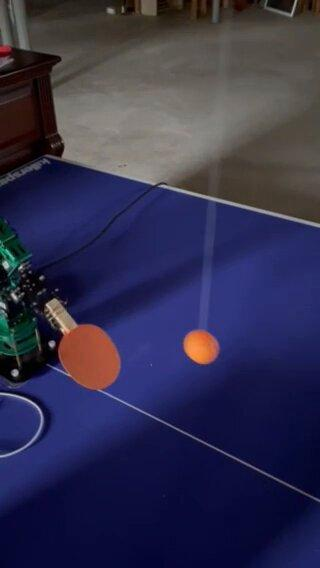oball: (182, 331, 219, 363)
